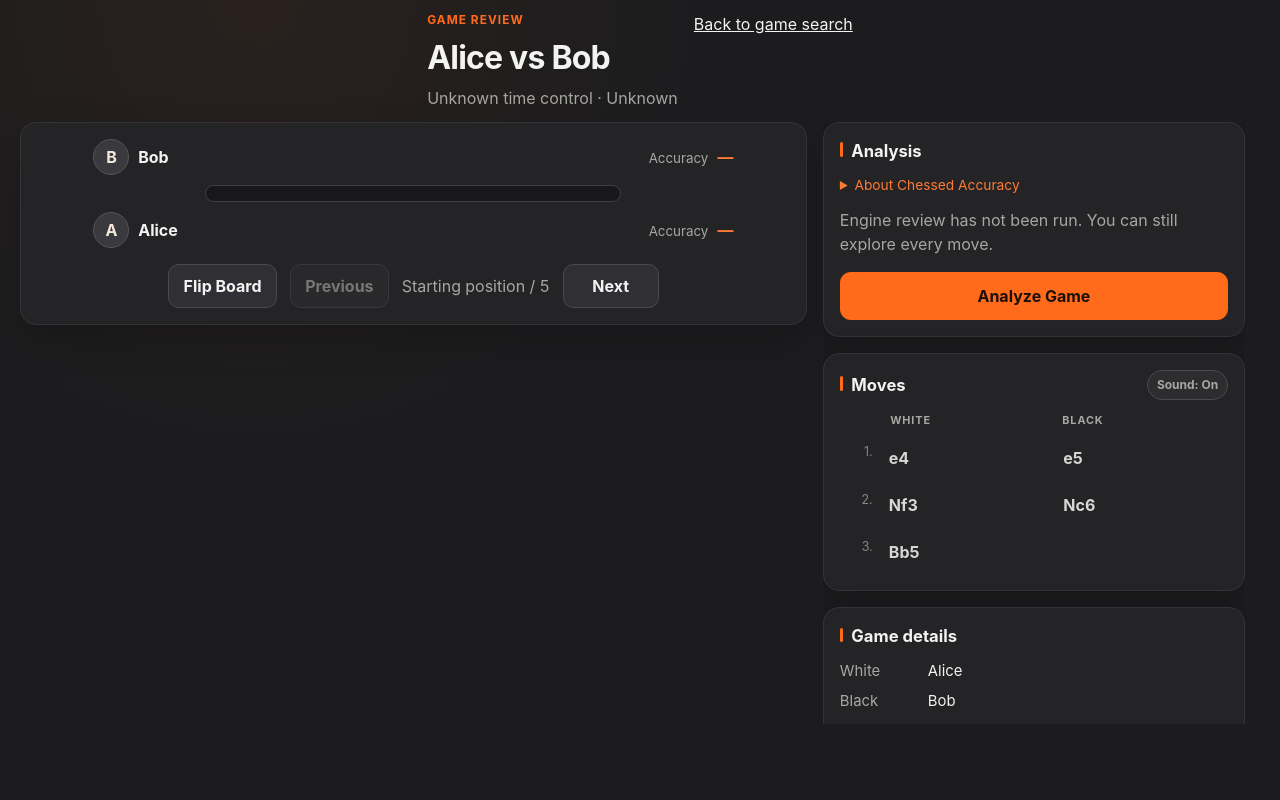
Scenario: review-page analysis workflow › keeps color-owned accuracy with player rows in white orientation
Click the button "Analyze Game" at (1034, 296), box x1=840 y1=272 x2=1228 y2=320
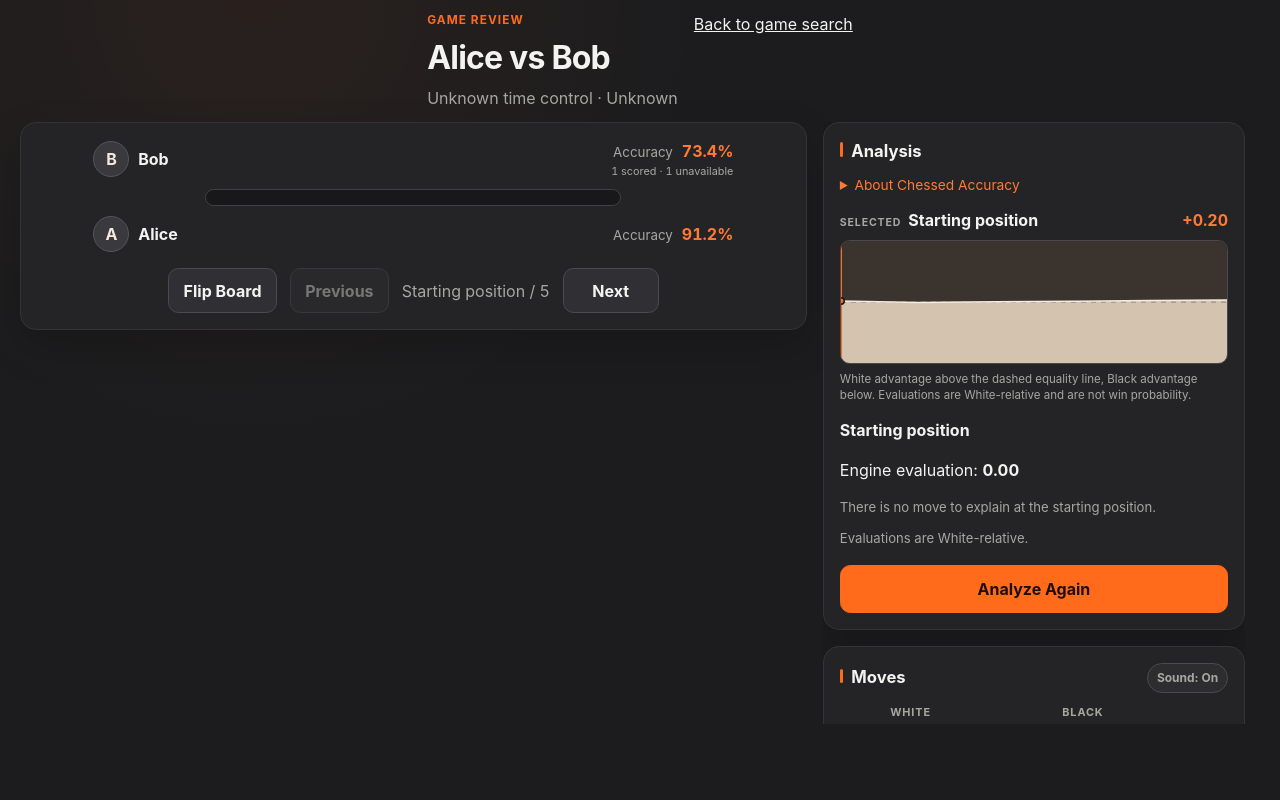
Now the text "91.2%" is shown, box x1=682 y1=224 x2=733 y2=244
Now the element showing "B Bob Accuracy 73.4% 1 scored · 1 unavailable" is shown, box x1=93 y1=139 x2=733 y2=179
Now the element showing "A Alice Accuracy 91.2%" is shown, box x1=93 y1=216 x2=733 y2=252
